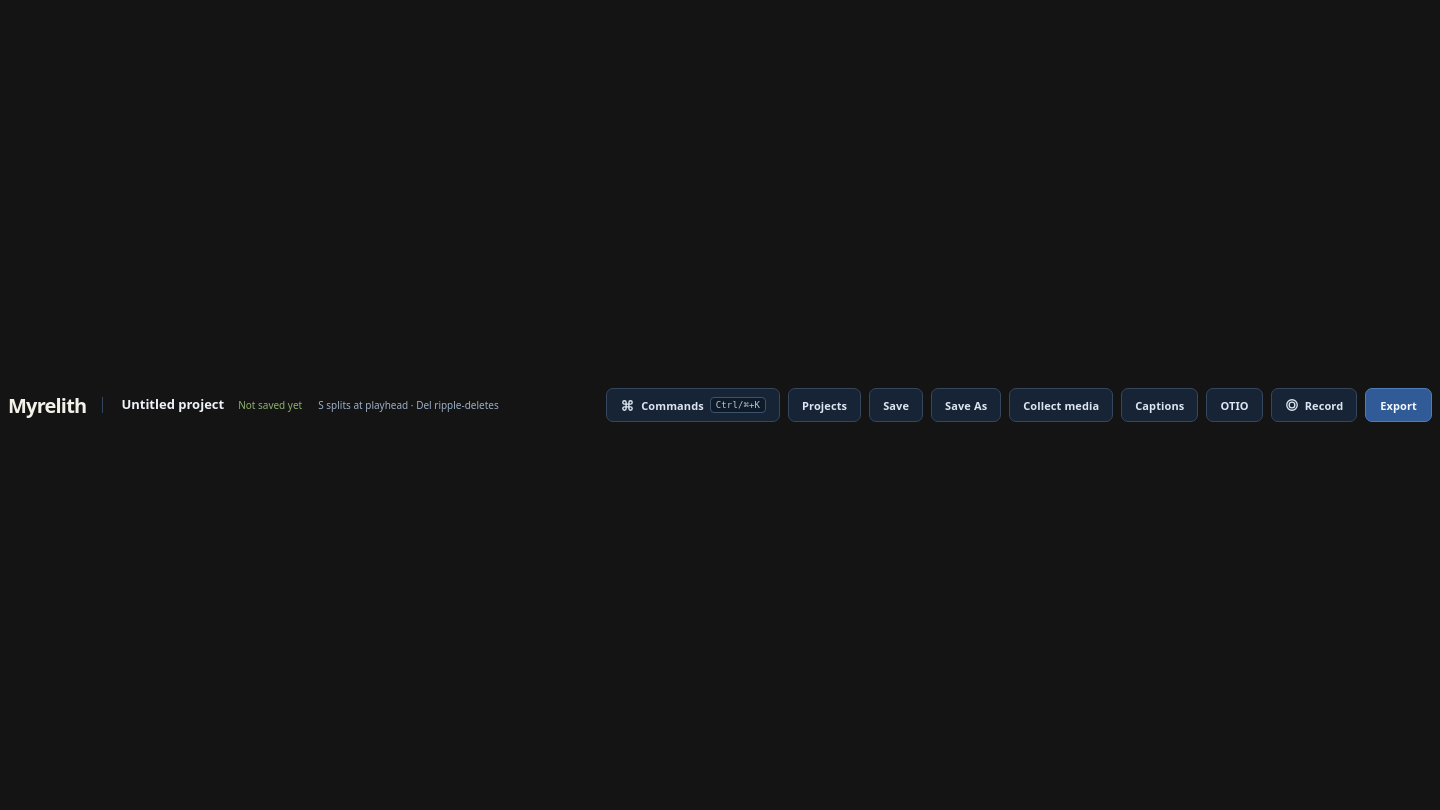
Test: Export dialog configuration › defaults to Compatibility, shows Auto resolution, isolates shortcuts, and restores focus
The image size is (1440, 810).
Click the button "Export" at {"x": 1399, "y": 405}, box x1=1365 y1=388 x2=1432 y2=422
(page scrolled)
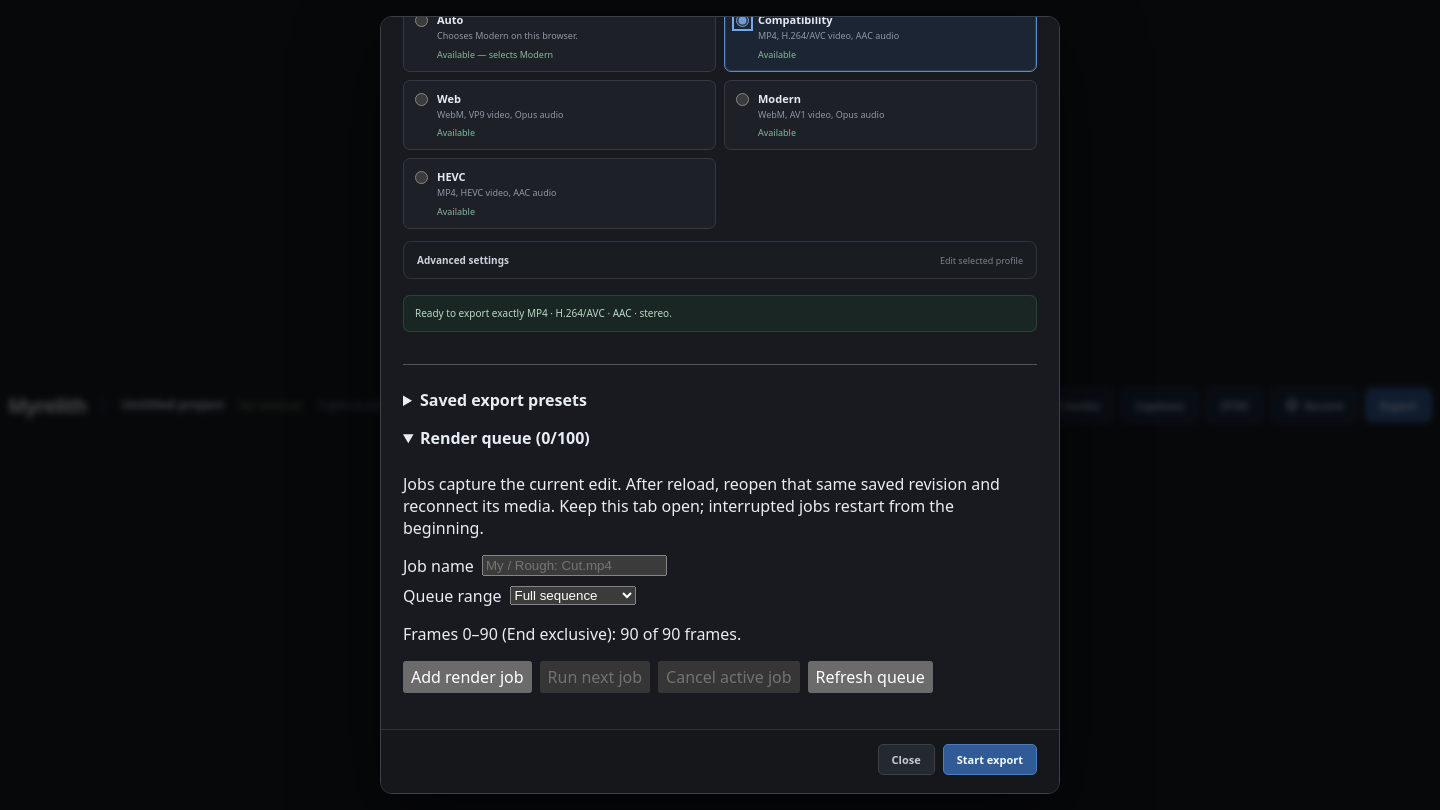
Now the 1st radio button is not checked, box x1=415 y1=16 x2=428 y2=27
Now the text "Available — selects Modern" is shown, box x1=437 y1=48 x2=553 y2=61
Press s in the button "Start export", box x1=943 y1=744 x2=1037 y2=775
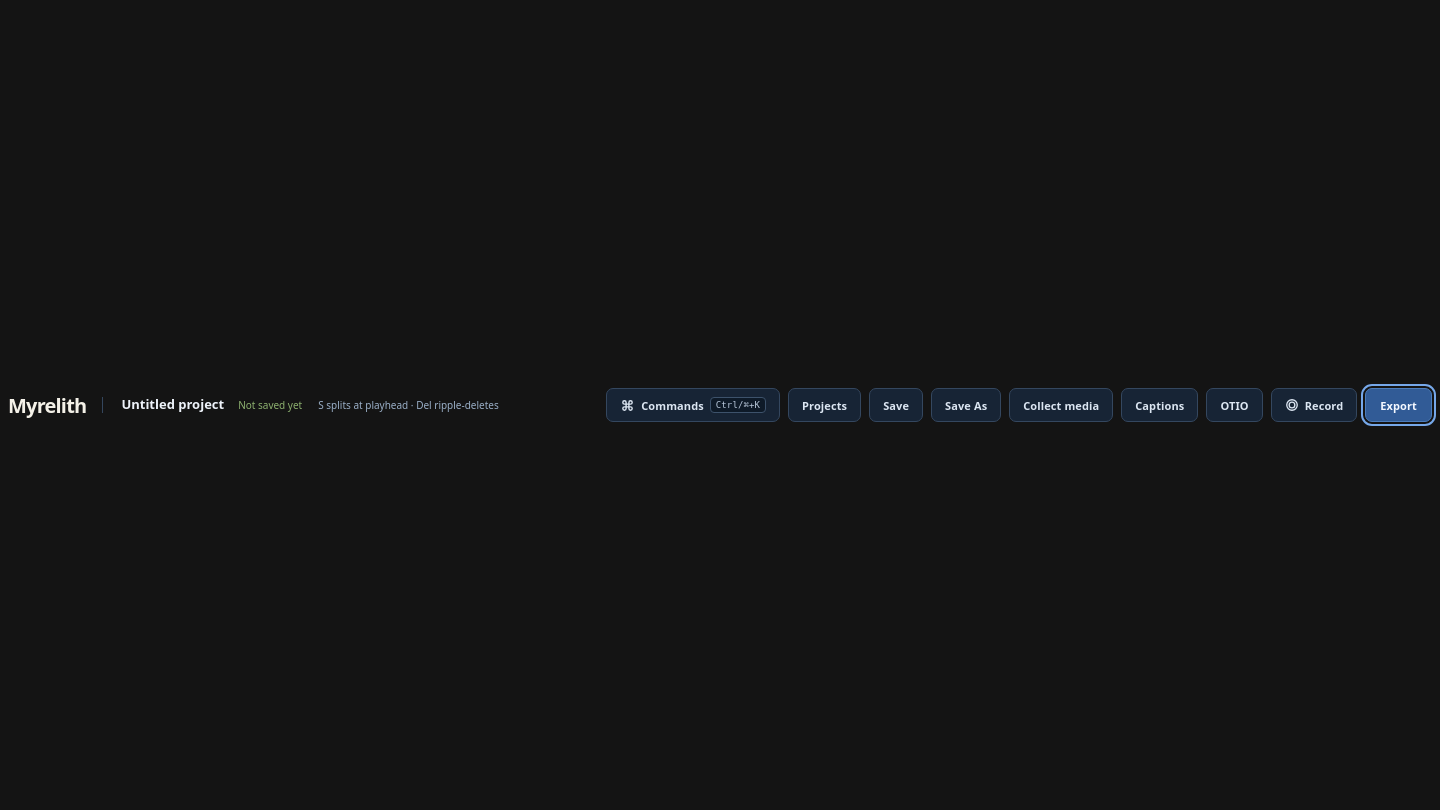
Now the dialog is gone
